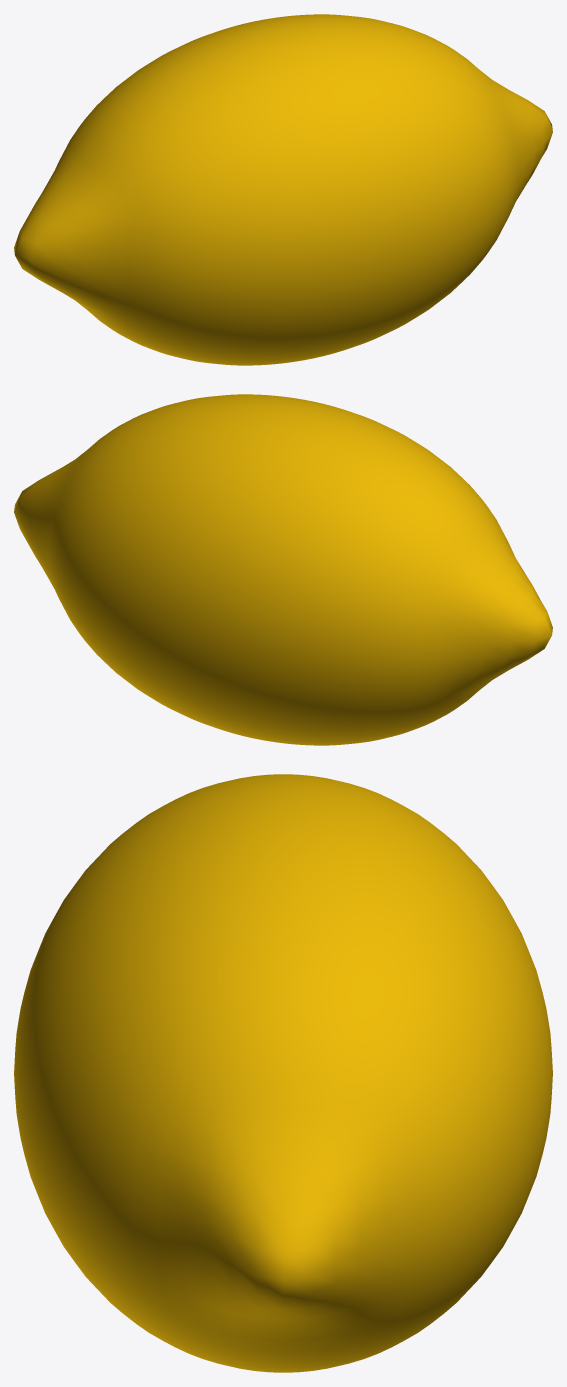
Rendered from Lemon.fbx.
The picture shows the model from 3 angles, top to bottom: view 1: azimuth 30°, elevation 25°; view 2: azimuth 150°, elevation 25°; view 3: azimuth 270°, elevation 25°; orthographic projection. The views are drawn at different scales.
Parts seen in each view (by area): view 1: Сфера; view 2: Сфера; view 3: Сфера.
Part boxes in pixels (<box>): Сфера: <box>14,14,552,365</box>; Сфера: <box>14,394,552,745</box>; Сфера: <box>14,774,552,1372</box>.
Bounding box in the file's own units: 720 × 399 × 395.
